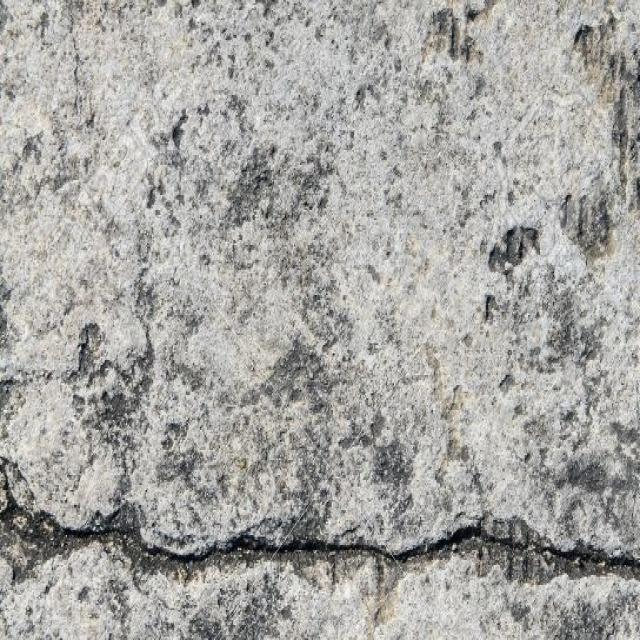Transverse: (0, 469, 640, 640)
